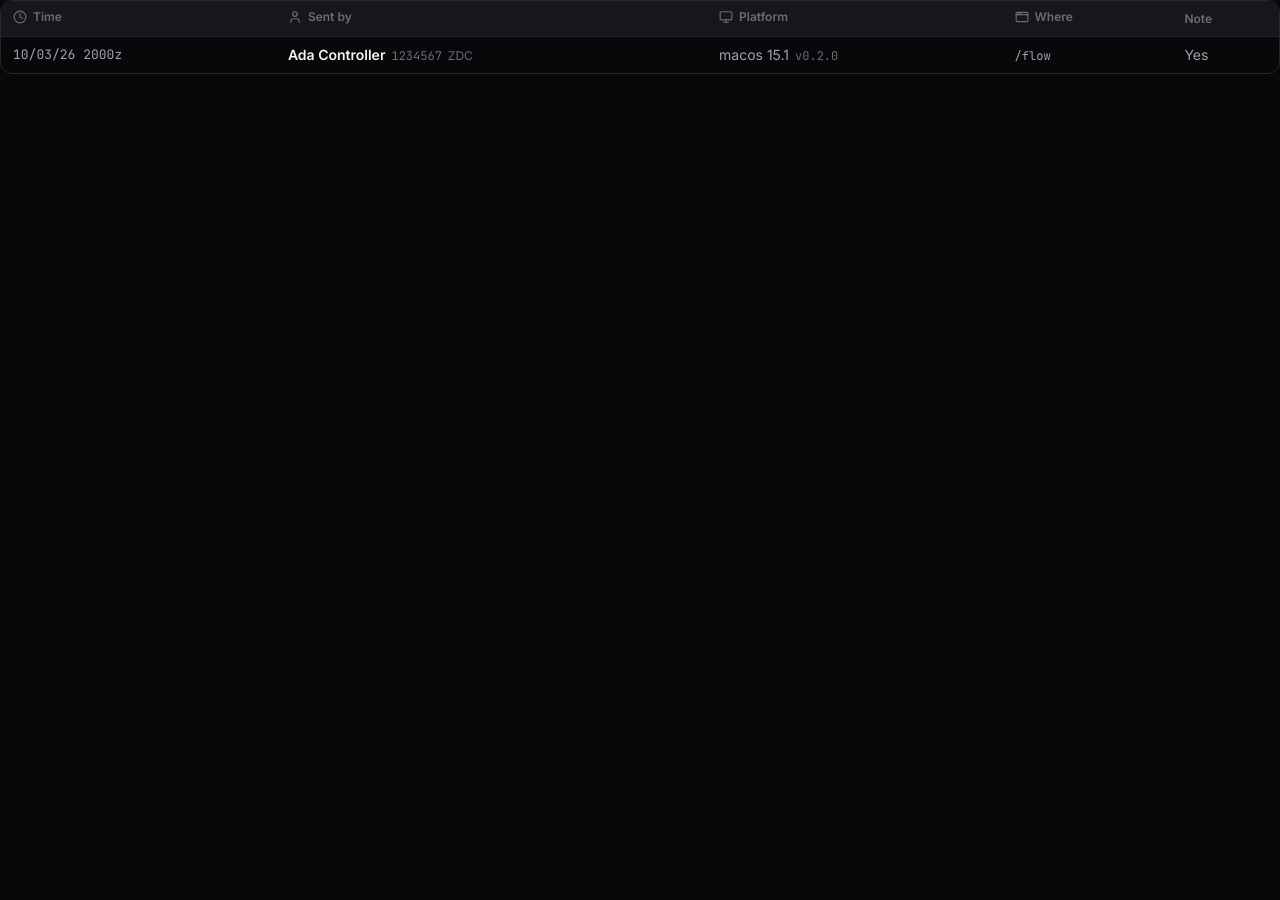
Test: AdminDiagnostics › opens a report with its note and details, and offers delete only to holders of it
This screenshot has width=1280, height=900.
Step 1. Click the row that starts with "10/03/26 2000z" → click(68, 54), box [1,36,1279,73]
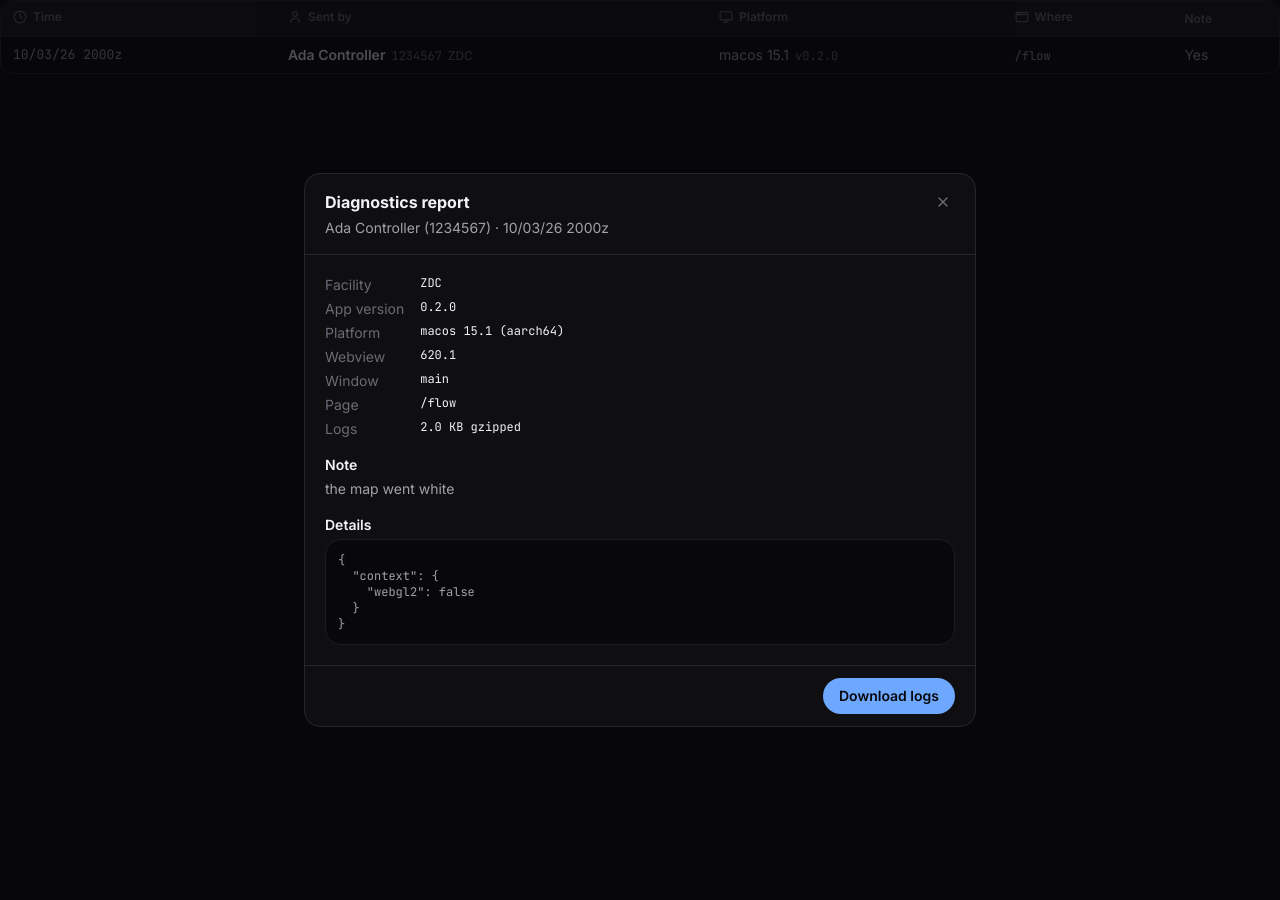
Expected: the text "the map went white" is shown, [325,480,454,497]
Expected: the text "\"webgl2\": false" is shown, [338,552,475,632]
Expected: the button "Download logs" is shown, [823,678,955,714]
